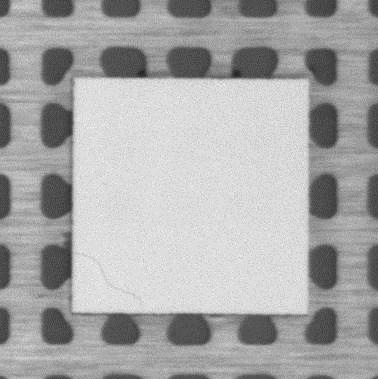DIE_CRACK: (73, 252, 138, 297)
